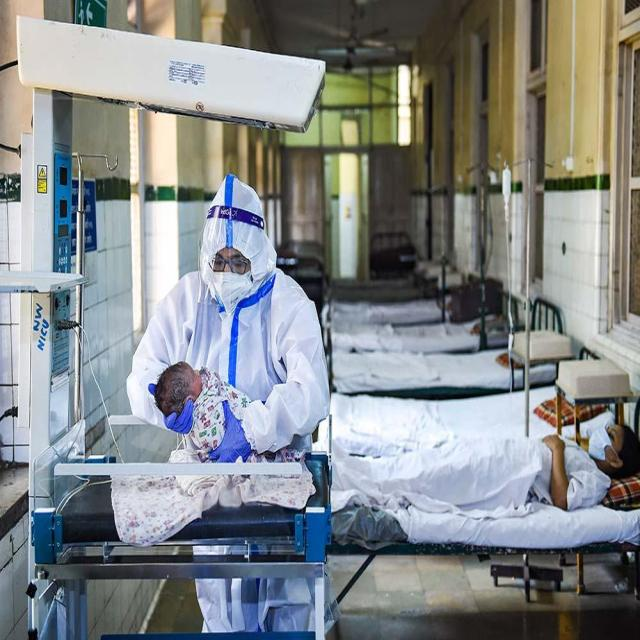Coverall: (113, 171, 332, 478)
Mask: (203, 264, 251, 320)
